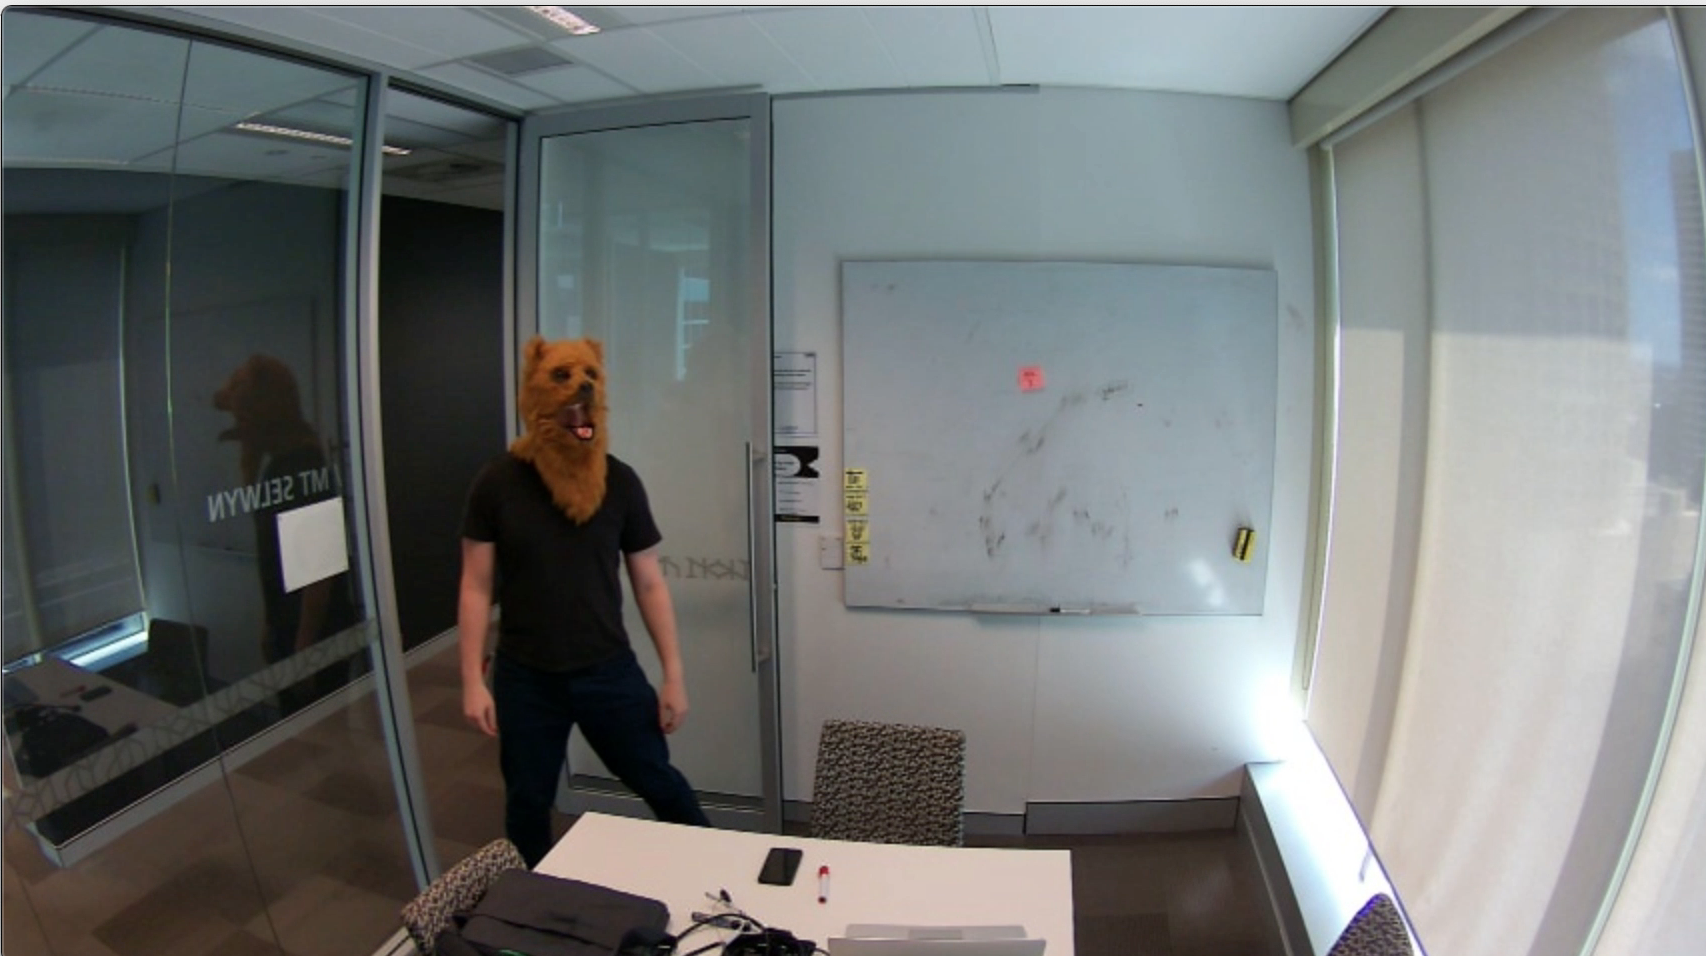Bear: (518, 330, 612, 464)
